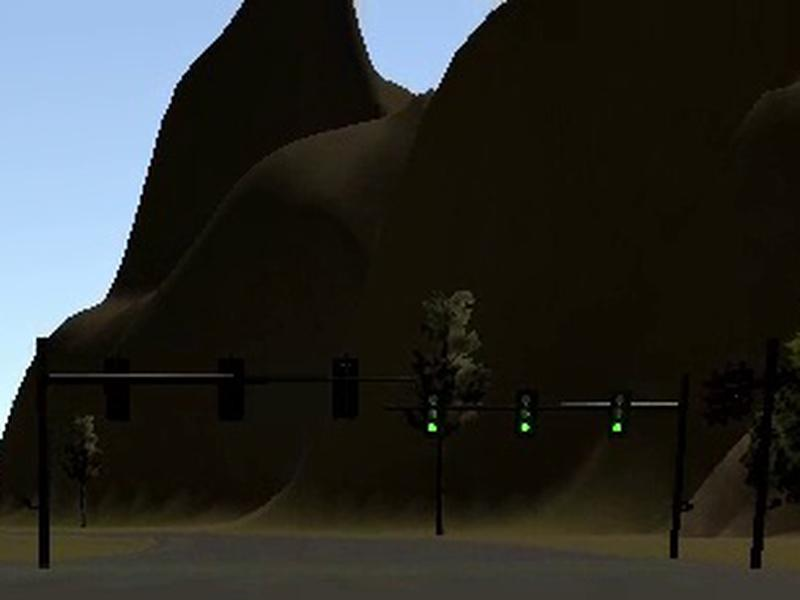Green: (517, 390, 539, 435), (425, 391, 445, 437), (608, 392, 629, 435)
